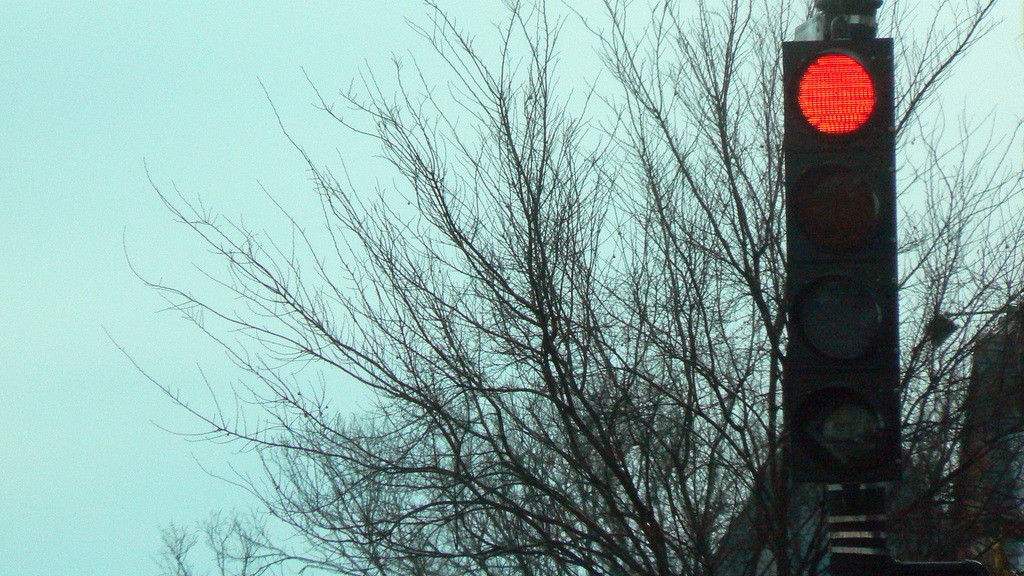red_light: (786, 43, 903, 477)
